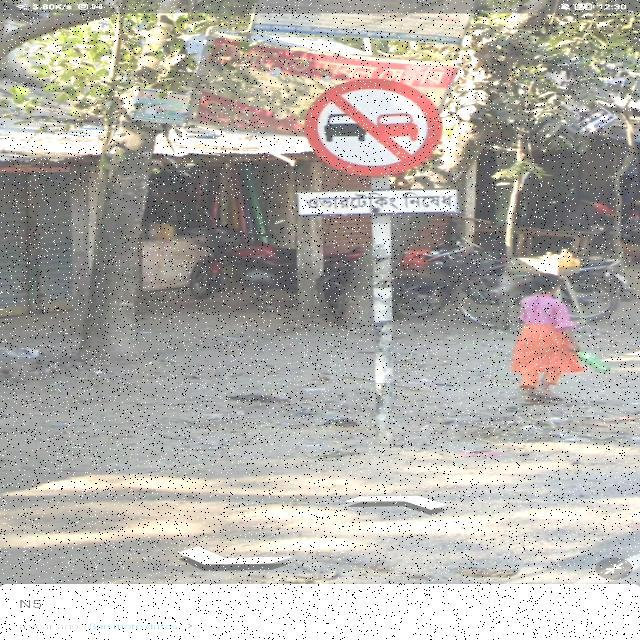Don-t-Overtracking: (284, 67, 478, 250)
